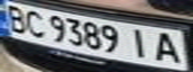3: (63, 16, 84, 47)
8: (81, 19, 103, 51)
9: (42, 12, 69, 44), (100, 21, 124, 54)
A: (148, 29, 187, 64)
B: (0, 2, 30, 34)
C: (21, 7, 48, 38)
I: (127, 26, 154, 60)
